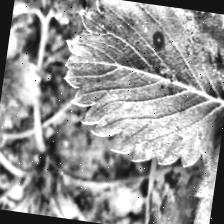Leaf Spot: (47, 0, 224, 175)
